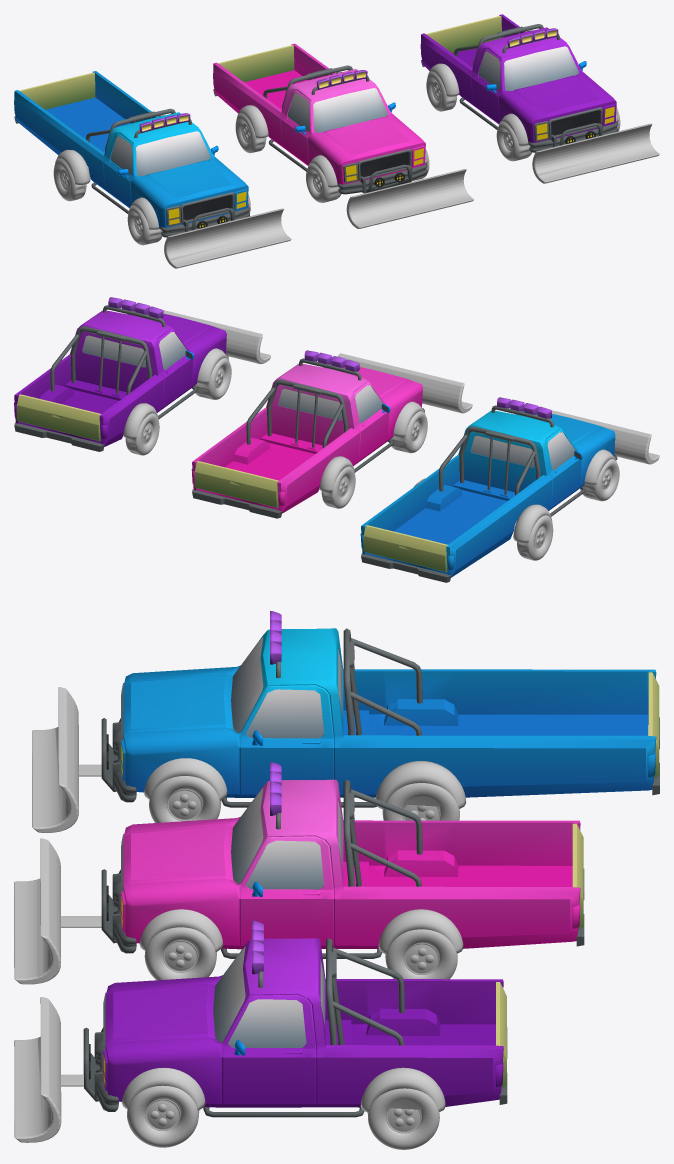
Rendered from Car_Rainbow (1).fbx.
3 views of the same model, one above another, from view 1: azimuth 30°, elevation 25°; view 2: azimuth 150°, elevation 25°; view 3: azimuth 270°, elevation 25° (orthographic). The views are drawn at different scales.
Parts seen in each view (by area): view 1: Car1, Car3, Car2, Shoveling _Device1, Shoveling _Device3, Shoveling _Device2, Fender3, Fender2, Fender1, Wheel11, Wheel4, Wheel6 (+3 smaller); view 2: Car1, Car3, Car2, Shoveling _Device2, Shoveling _Device3, Shoveling _Device1, Fender3, Fender1, Fender2, Wheel11, Wheel3, Wheel6 (+3 smaller); view 3: Car1, Car3, Car2, Shoveling _Device2, Shoveling _Device1, Shoveling _Device3, Fender3, Fender2, Wheel2, Fender1, Wheel8, Wheel5 (+3 smaller).
Boxes of the visible parts, x1,y1,x2,y2 form: Car1: (14, 71, 250, 237); Car3: (213, 43, 427, 194); Car2: (420, 14, 618, 152); Shoveling _Device1: (532, 123, 659, 183); Shoveling _Device3: (164, 208, 291, 268); Shoveling _Device2: (346, 169, 474, 228); Fender3: (55, 149, 249, 229); Fender2: (427, 63, 618, 145); Fender1: (237, 105, 427, 187); Wheel11: (53, 159, 86, 201); Wheel4: (496, 122, 532, 161); Wheel6: (306, 164, 341, 202); Car1: (360, 397, 617, 582); Car3: (191, 350, 424, 518); Car2: (14, 297, 228, 451); Shoveling _Device2: (338, 353, 472, 413); Shoveling _Device3: (551, 410, 659, 464); Shoveling _Device1: (163, 310, 270, 364); Fender3: (414, 449, 616, 542); Fender1: (319, 401, 424, 491); Fender2: (123, 348, 228, 438); Wheel11: (517, 515, 553, 560); Wheel3: (580, 459, 619, 501); Wheel6: (391, 411, 427, 453); Car1: (101, 611, 659, 807); Car3: (101, 762, 584, 958); Car2: (83, 920, 507, 1117); Shoveling _Device2: (14, 838, 101, 984); Shoveling _Device1: (14, 997, 83, 1142); Shoveling _Device3: (32, 687, 101, 832); Fender3: (143, 758, 466, 809); Fender2: (121, 1067, 445, 1112); Wheel2: (127, 1085, 199, 1147); Fender1: (139, 909, 463, 954); Wheel8: (367, 1088, 439, 1149); Wheel5: (144, 927, 216, 980).
Size of the model in its own units: 1401 by 274 by 930.
